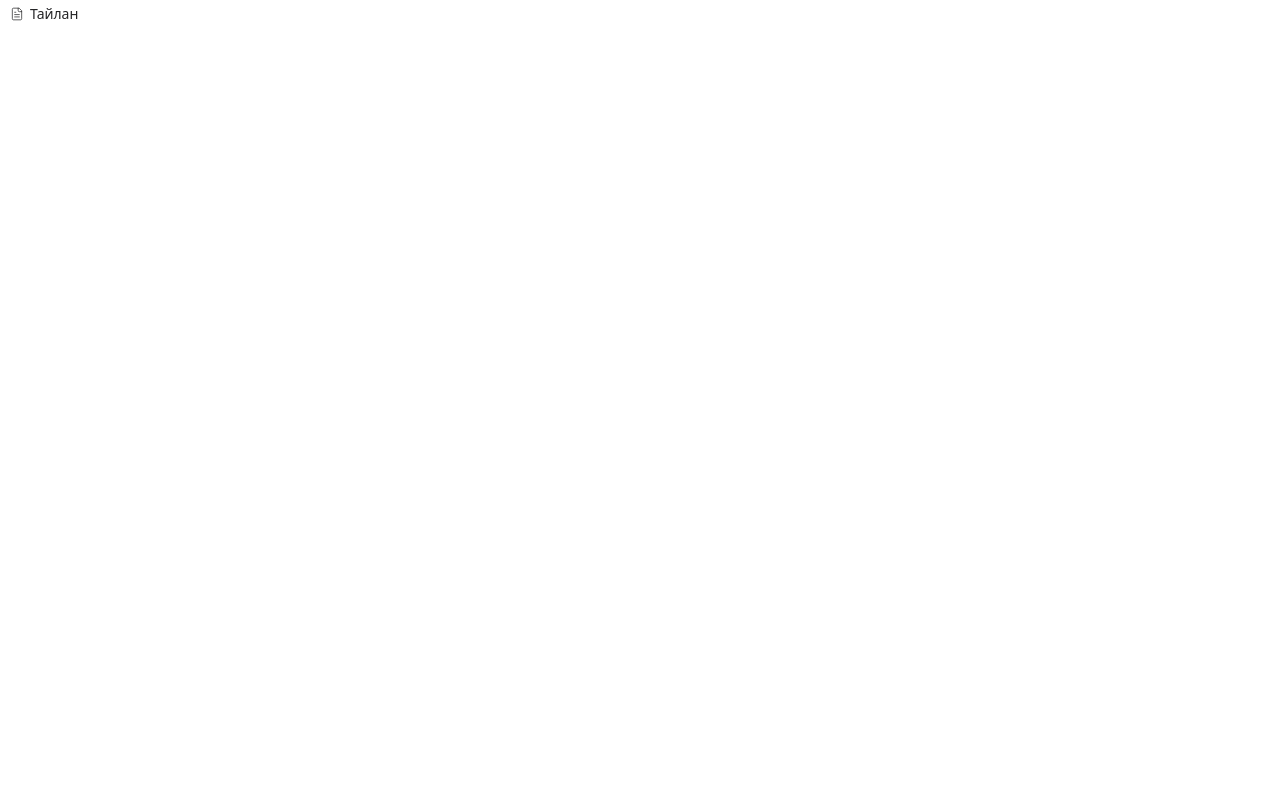
Test: SourcePreview › opens from the chip and shows title, kind, date and the marked quote
Step 1. Click the button "Тайлан" → (44, 14), box [0,0,88,28]
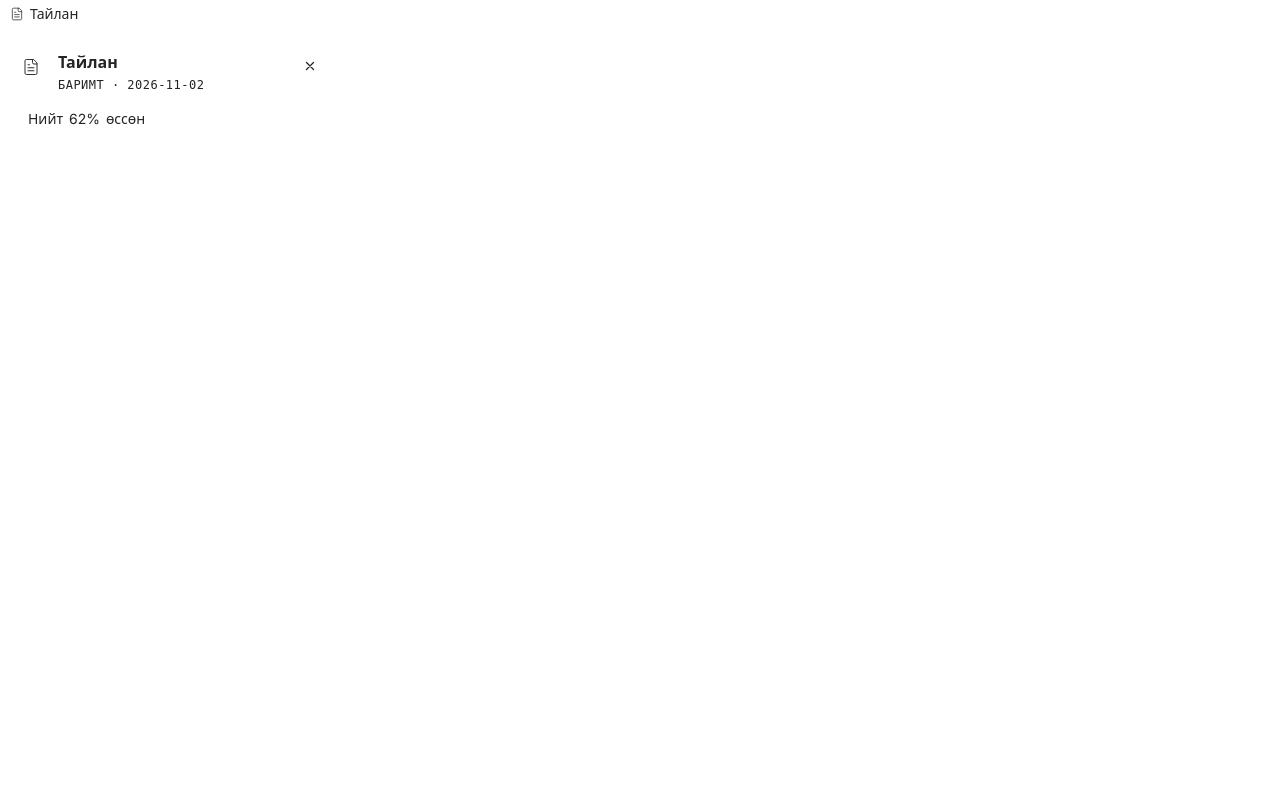
Check: the dialog "Тайлан" is shown, box [0,36,340,145]
Check: the text "Баримт · 2026-11-02" is shown, box [58,78,204,92]
Check: the text "62%" is shown, box [67,110,102,127]
